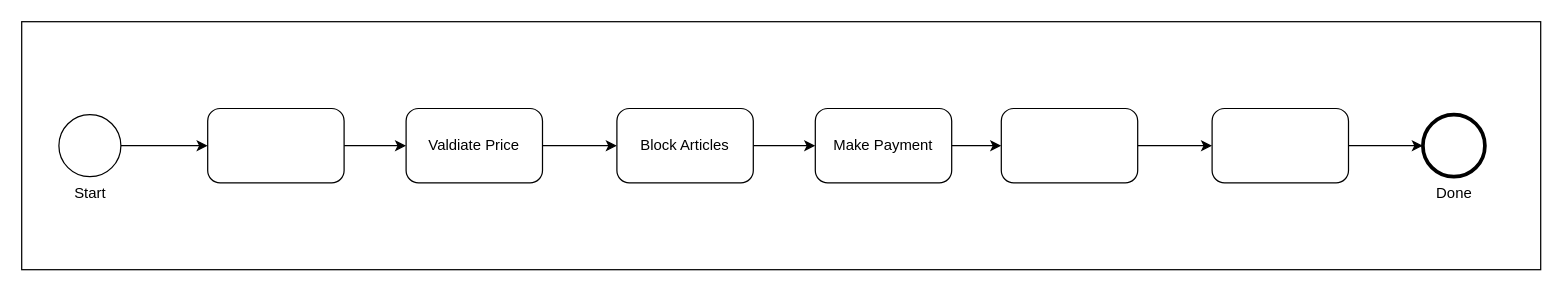
The diagram is 1562 pixels wide and 291 high, and some of its shapes have lost their labels. Each missing label, with the centre of its shape:
Add Money: pixel 1069 145
Place Order: pixel 275 145
Ship Article: pixel 1279 145
